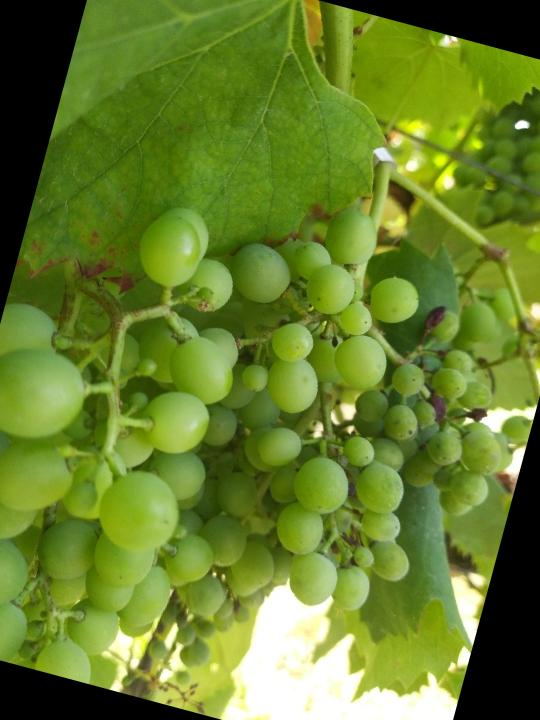grape: (0, 172, 300, 705), (221, 202, 540, 645)
